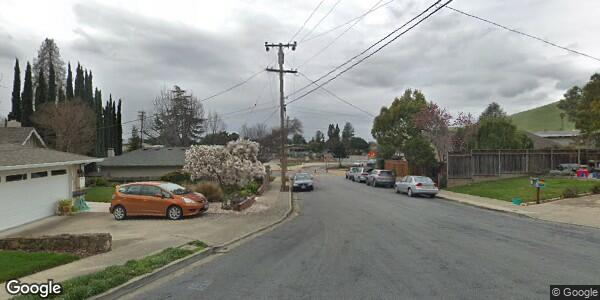Wood_Pole: (262, 40, 300, 191), (134, 107, 147, 146)
